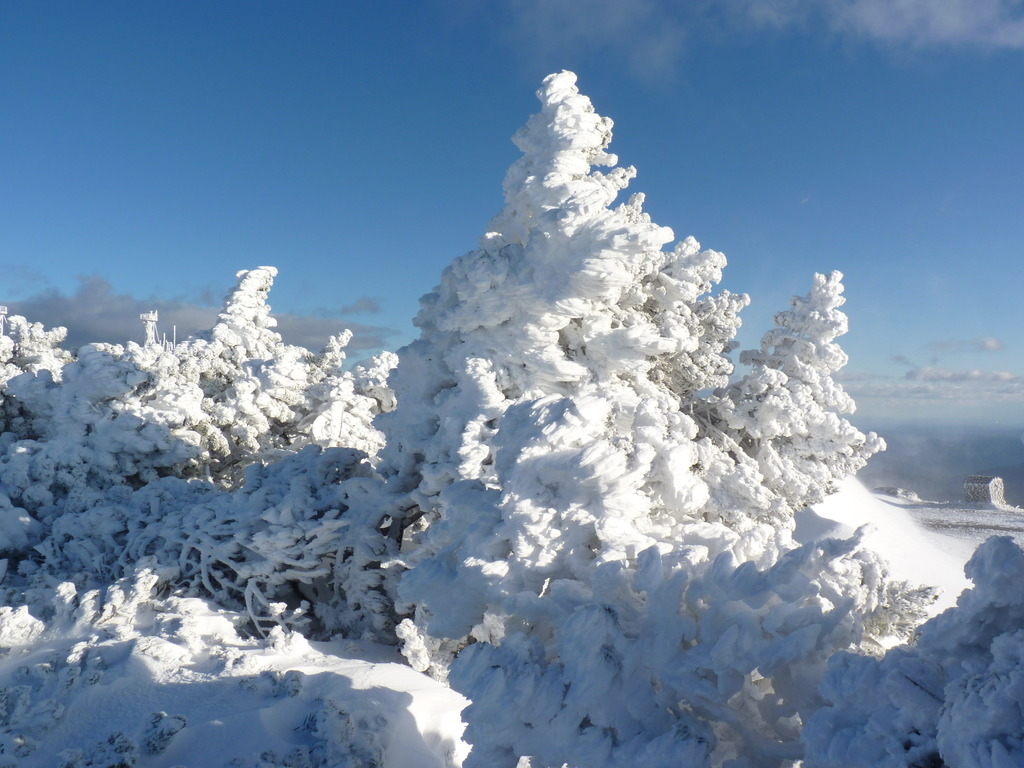Tree: (0, 69, 1023, 767)
